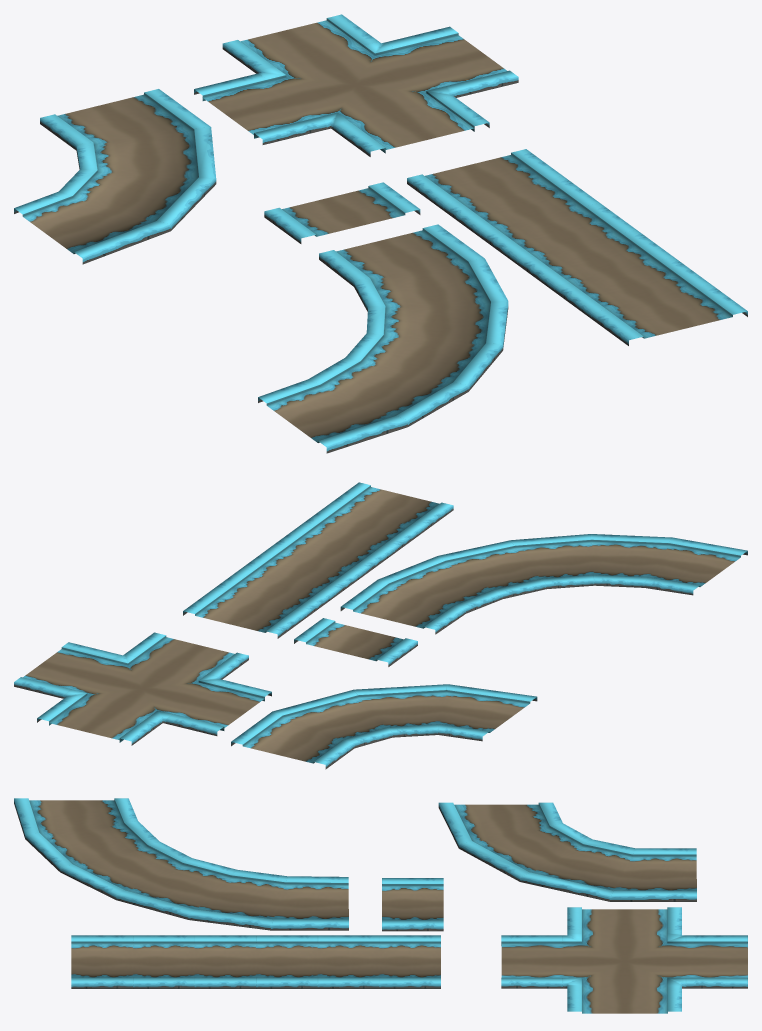
Rendered from Road_Tiling_5Pieces.FBX.
The picture shows the model from 3 angles, top to bottom: view 1: azimuth 30°, elevation 25°; view 2: azimuth 150°, elevation 25°; view 3: azimuth 270°, elevation 25°; orthographic projection. The views are drawn at different scales.
Parts seen in each view (by area): view 1: Object288, Object297, Object289, Object286, Line1398; view 2: Object288, Object297, Object289, Object286, Line1398; view 3: Object288, Object289, Object297, Object286, Line1398.
Part boxes in pixels (x1,y1,x2,y2): Object288: [258, 224, 508, 453]; Object297: [194, 14, 518, 156]; Object289: [407, 149, 747, 345]; Object286: [14, 89, 216, 264]; Line1398: [264, 182, 420, 243]; Object288: [340, 534, 747, 634]; Object297: [14, 632, 271, 745]; Object289: [183, 482, 453, 638]; Object286: [231, 684, 537, 769]; Line1398: [294, 618, 417, 666]; Object288: [14, 798, 348, 930]; Object289: [71, 935, 440, 988]; Object297: [501, 907, 747, 1013]; Object286: [438, 802, 696, 901]; Line1398: [382, 878, 443, 931].
Size of the model in its own units: 717 by 7.95 by 1044.
Materials: 1 (1 with a texture image).
